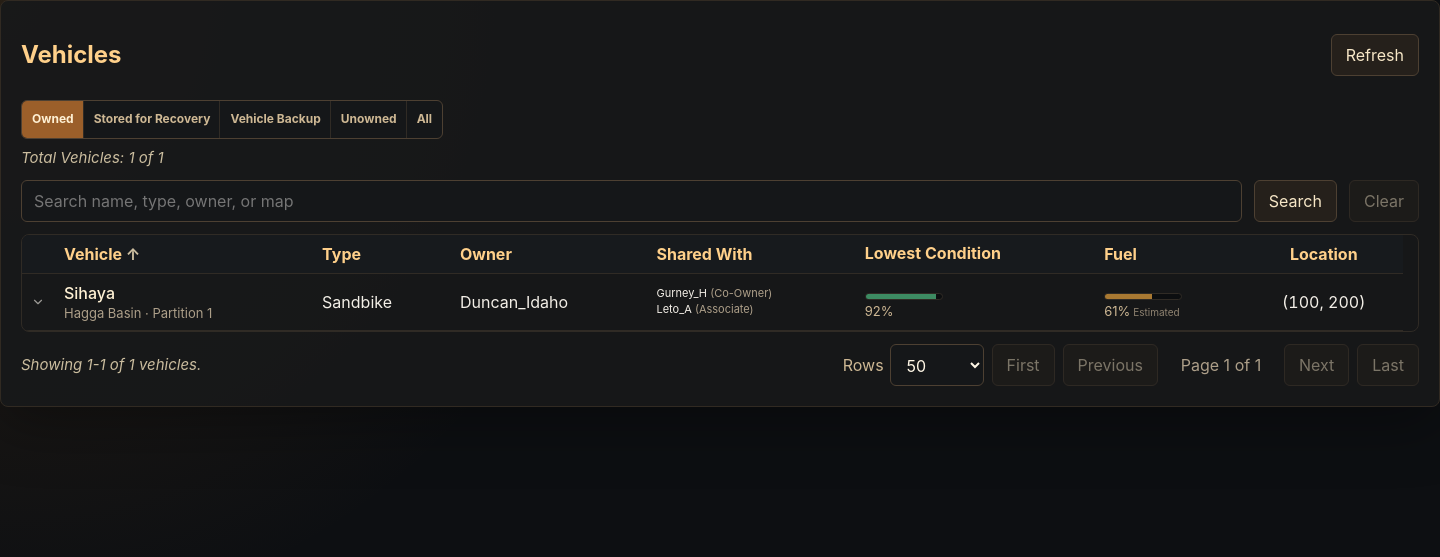
Scenario: VehiclesPanel › View Contents › offers the button when a storage module is fitted and the server can read holds
Click the button named "Show components for Sihaya". click: (38, 302)
box: [26,290,50,314]
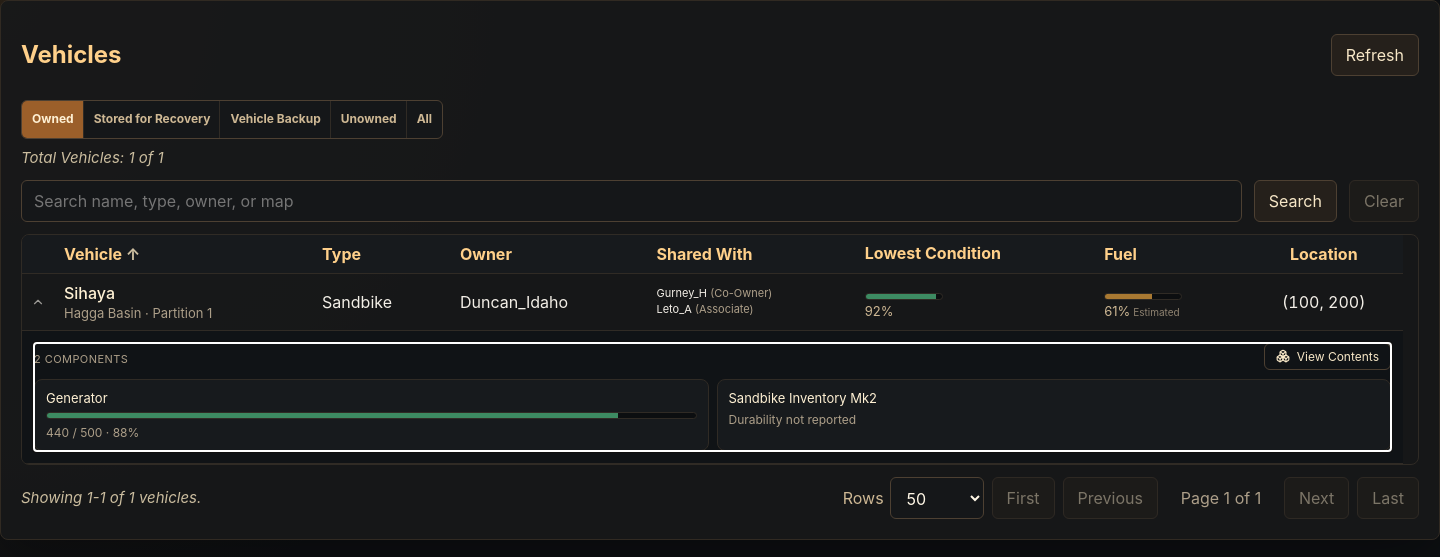
Expected: the text "2 components" is shown, [34,352,128,366]
Expected: the button "View Contents" is shown, [1264,343,1391,370]
